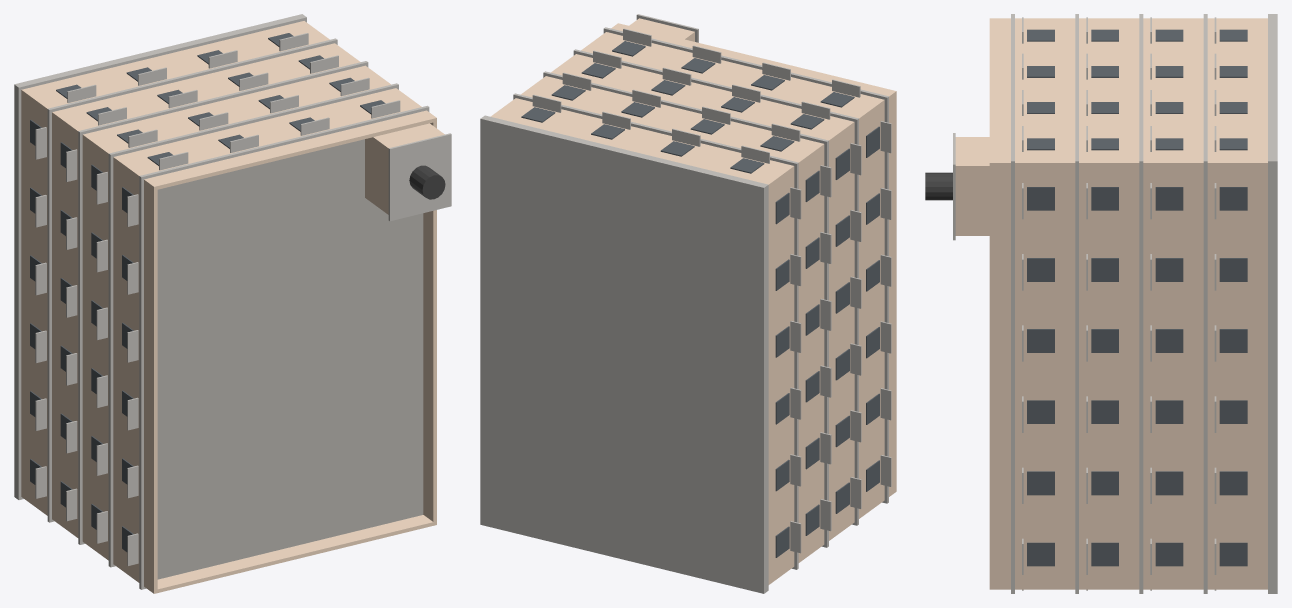
The model's file is apartment_4f_peach.glb.
3 views of the same model, side by side, from view 1: azimuth 30°, elevation 25°; view 2: azimuth 150°, elevation 25°; view 3: azimuth 270°, elevation 25° (orthographic). The views are drawn at different scales.
Visible parts, largest first — view 1: roof, peach, concrete, glass, tank; view 2: concrete, peach, glass; view 3: peach, glass, concrete, tank.
Part boxes in pixels (x1,y1,x2,y2): roof: (157,139,423,579); peach: (21,21,444,593); concrete: (14,14,451,589); glass: (30,33,385,551); tank: (409,165,445,199); concrete: (480,14,891,593); peach: (490,18,896,584); glass: (521,41,879,557); peach: (955,18,1267,589); glass: (1027,29,1247,566); concrete: (953,14,1277,593); tank: (925,172,952,200).
Bounding box in the file's own units: 17.2 × 23.81 × 16.45.
